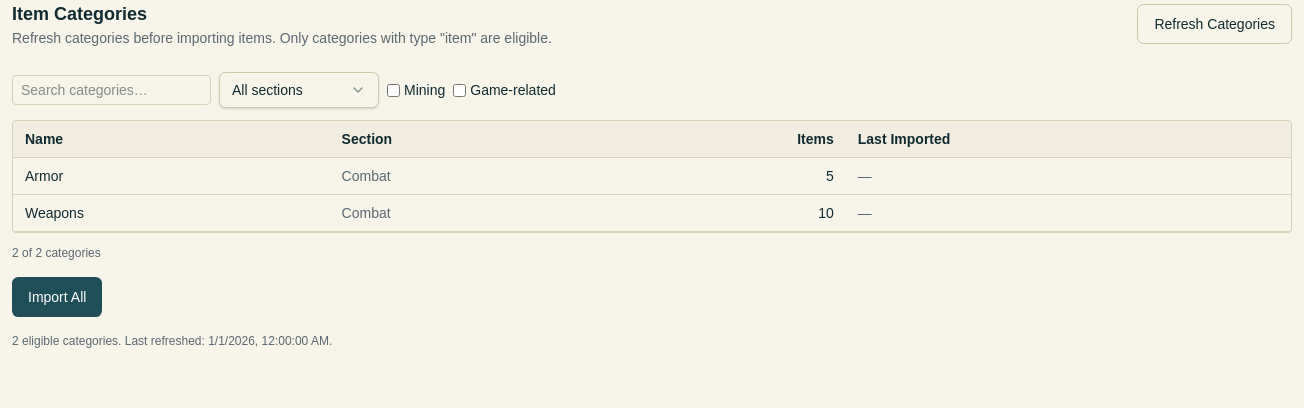
it: ItemsImportTab › shows error on failure
Click the button "Import All". click: click(57, 297)
box: 12,277 -> 102,317
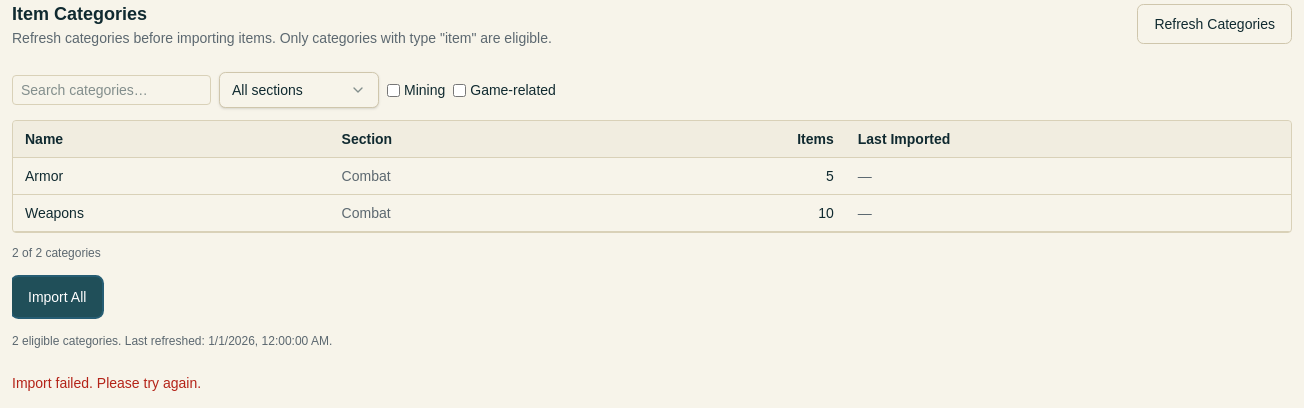
Check: the message shows "failed", box 12,375 -> 201,391
